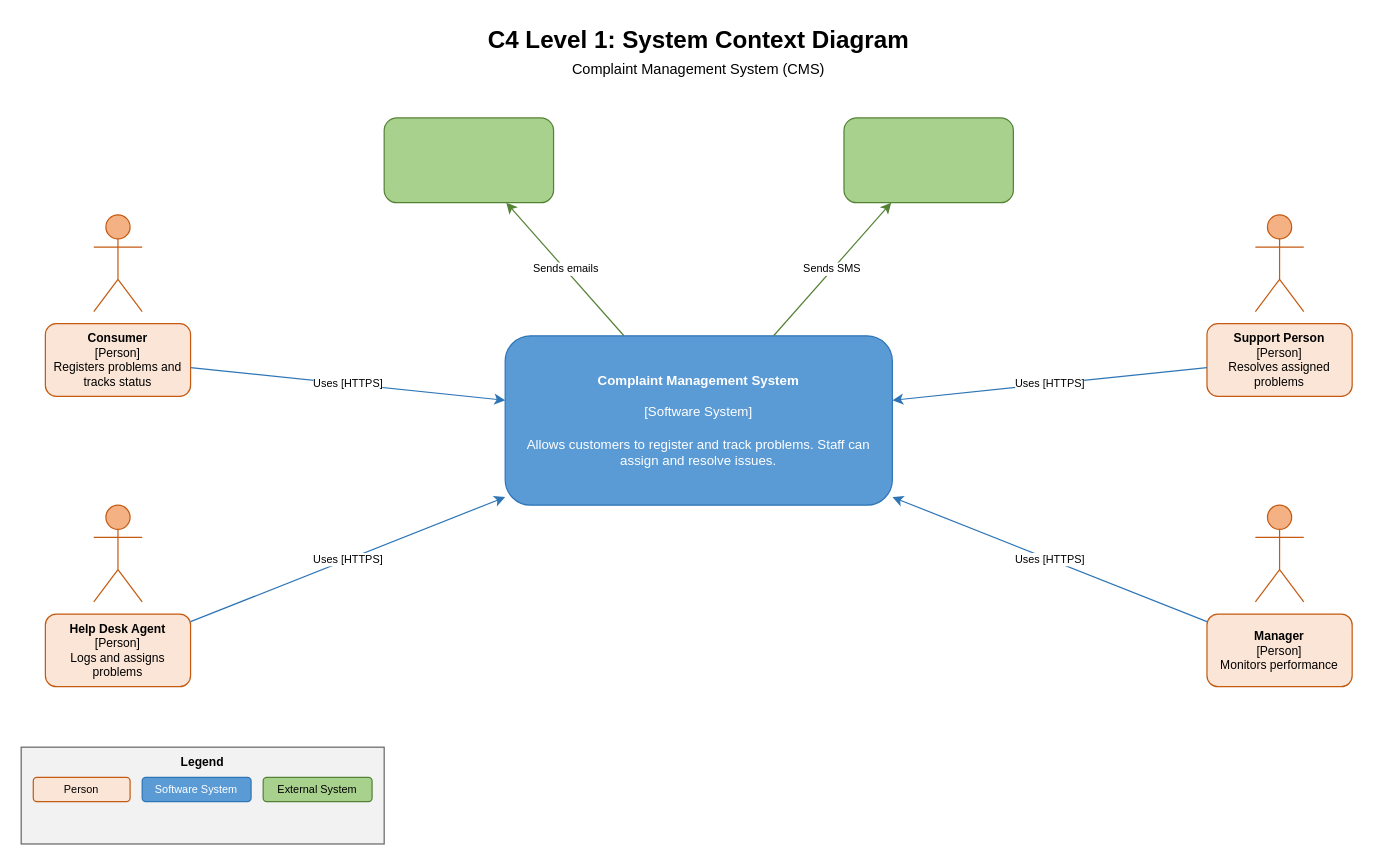
Image size: 1373x865. Some labels were removed from this diagram. Here are the shapes that lost their labels. From the top down, the centre of each, then its label:
At (468,160): "Email Service [External System] Sends notifications".
At (928,160): "SMS Service [External System] Sends SMS alerts".
